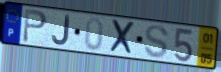0: (83, 16, 106, 52)
5: (173, 26, 196, 63)
J: (51, 14, 72, 47)
P: (21, 8, 49, 45)
S: (143, 24, 171, 60)
X: (108, 18, 137, 57)
